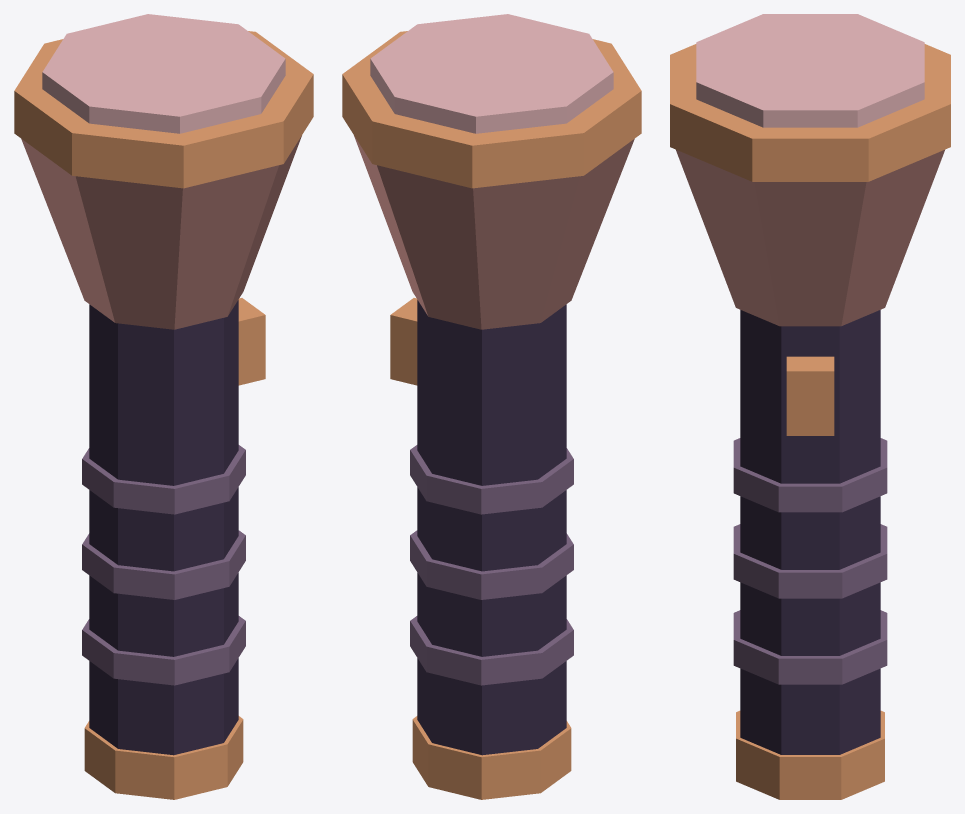
The model's file is work_lamp.obj.
3 views of the same model, side by side, from view 1: azimuth 30°, elevation 25°; view 2: azimuth 150°, elevation 25°; view 3: azimuth 270°, elevation 25° (orthographic).
Visible parts, largest first — view 1: work_lamp_deep_purple, work_lamp_dusty_rose, work_lamp_warm_orange, work_lamp_pale_pink, work_lamp_mauve; view 2: work_lamp_deep_purple, work_lamp_dusty_rose, work_lamp_warm_orange, work_lamp_pale_pink, work_lamp_mauve; view 3: work_lamp_deep_purple, work_lamp_warm_orange, work_lamp_dusty_rose, work_lamp_pale_pink, work_lamp_mauve.
Part boxes in pixels (bbox=[...]): work_lamp_deep_purple: bbox=[89, 300, 238, 755]; work_lamp_dusty_rose: bbox=[21, 136, 301, 329]; work_lamp_warm_orange: bbox=[14, 31, 313, 799]; work_lamp_pale_pink: bbox=[42, 14, 285, 133]; work_lamp_mauve: bbox=[82, 445, 245, 685]; work_lamp_deep_purple: bbox=[417, 300, 566, 755]; work_lamp_dusty_rose: bbox=[354, 136, 634, 329]; work_lamp_warm_orange: bbox=[342, 31, 641, 799]; work_lamp_pale_pink: bbox=[370, 14, 613, 133]; work_lamp_mauve: bbox=[410, 445, 573, 685]; work_lamp_deep_purple: bbox=[740, 310, 880, 754]; work_lamp_warm_orange: bbox=[670, 44, 950, 799]; work_lamp_dusty_rose: bbox=[676, 150, 944, 326]; work_lamp_pale_pink: bbox=[696, 14, 924, 127]; work_lamp_mauve: bbox=[733, 438, 887, 684].
Bounding box in the file's own units: 0.1183 × 0.328 × 0.1183.
